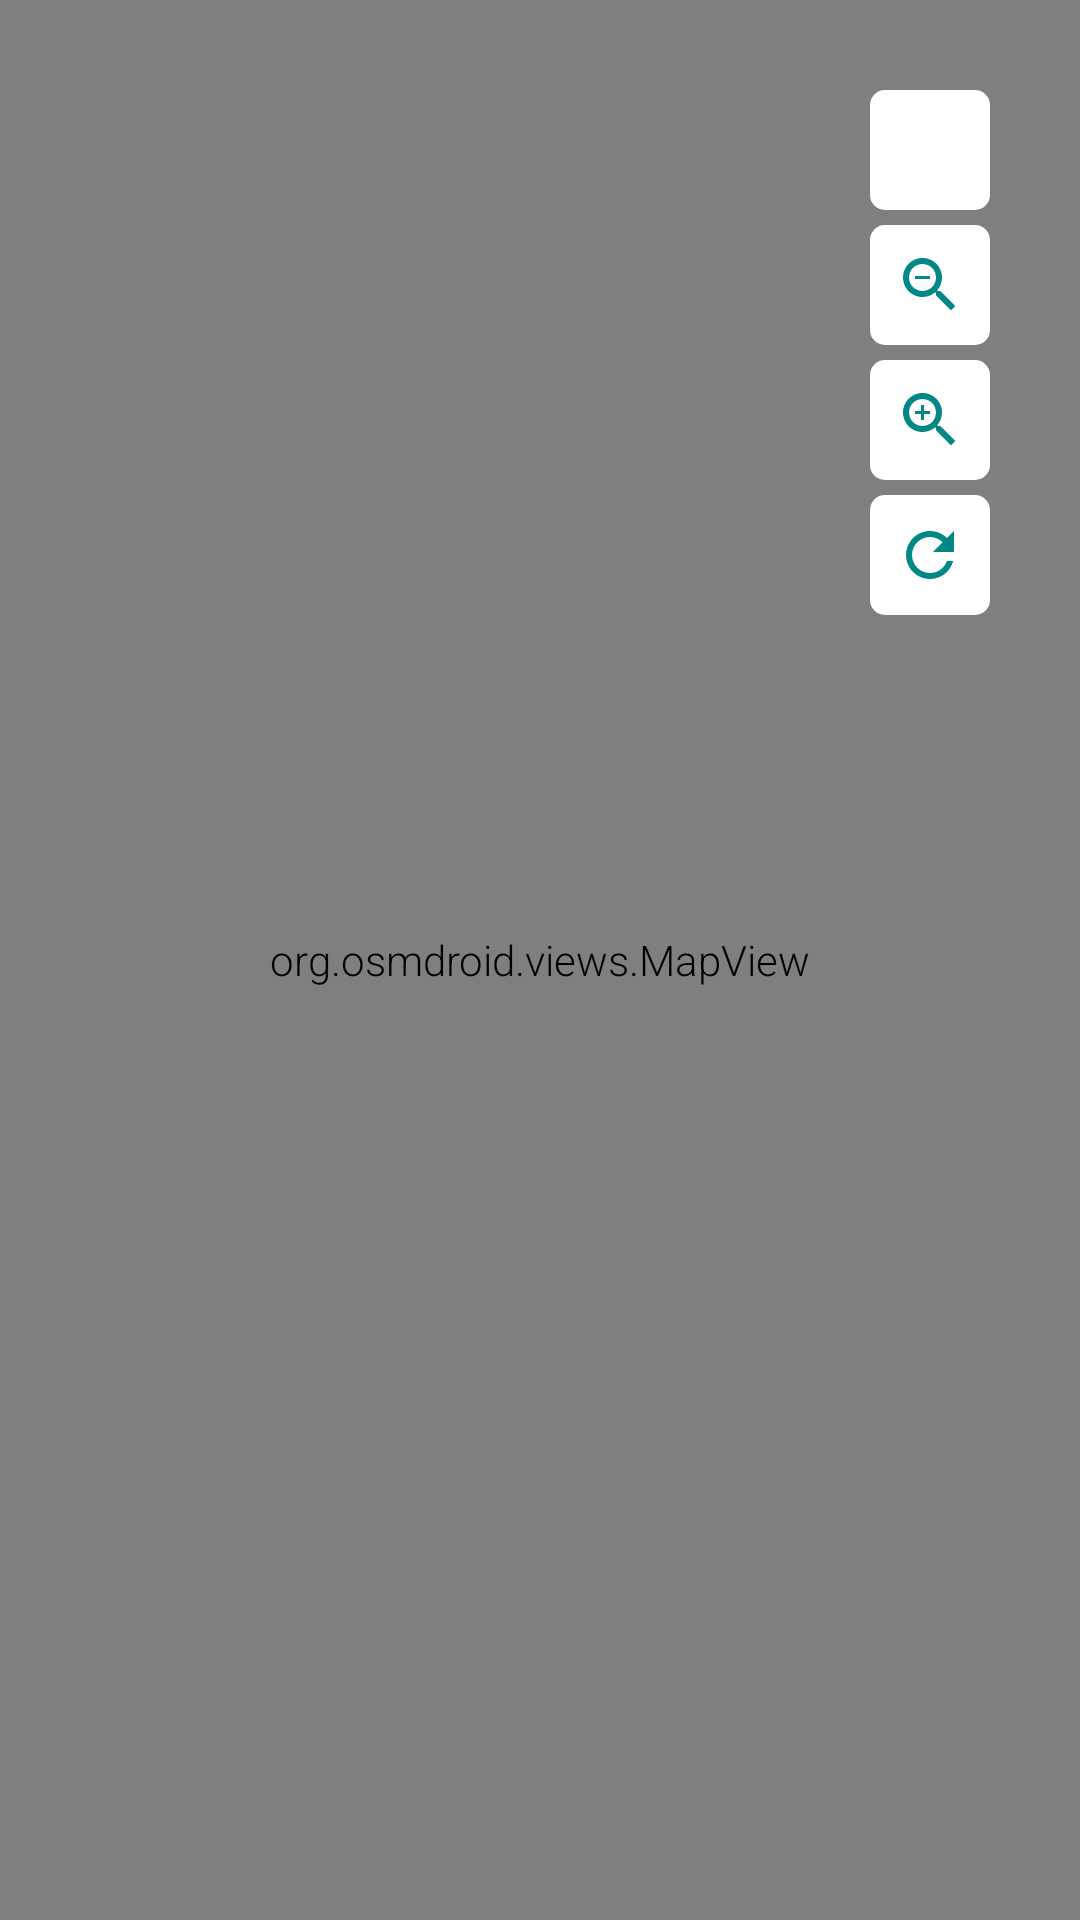

Where icons sit on this 1080w x 1920h app screen, as box(x1, y1, x2, y2):
refresh: box(870, 495, 990, 615)
zoom in: box(870, 360, 990, 480)
zoom out: box(870, 225, 990, 345)
